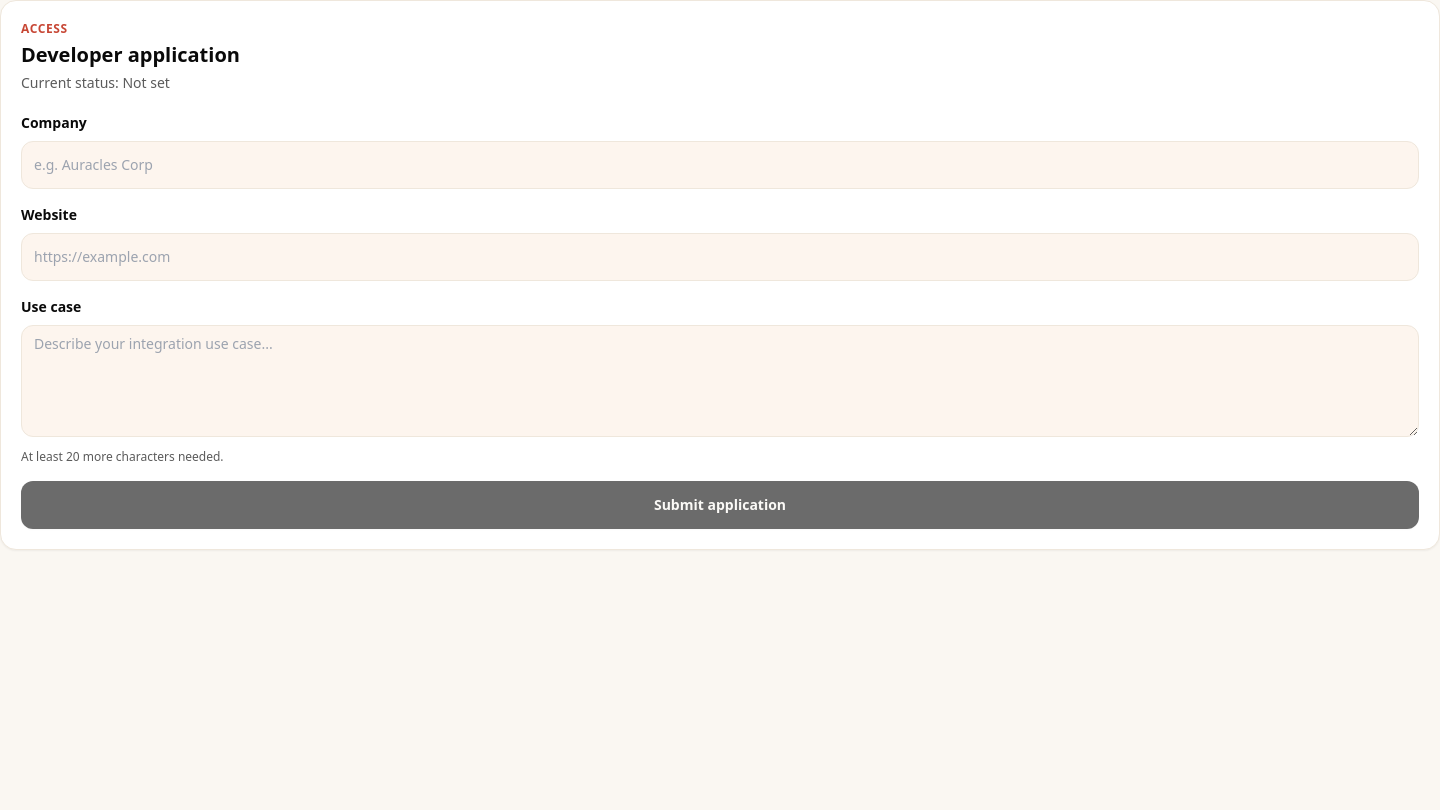
ApplicationPanel › disables the apply submit until required fields are valid
Expected: the button "Submit application" is disabled, [21,481,1419,529]
Type "Partner Systems Inc." into the field labelled "Company" at (720, 165), box [21,141,1419,189]
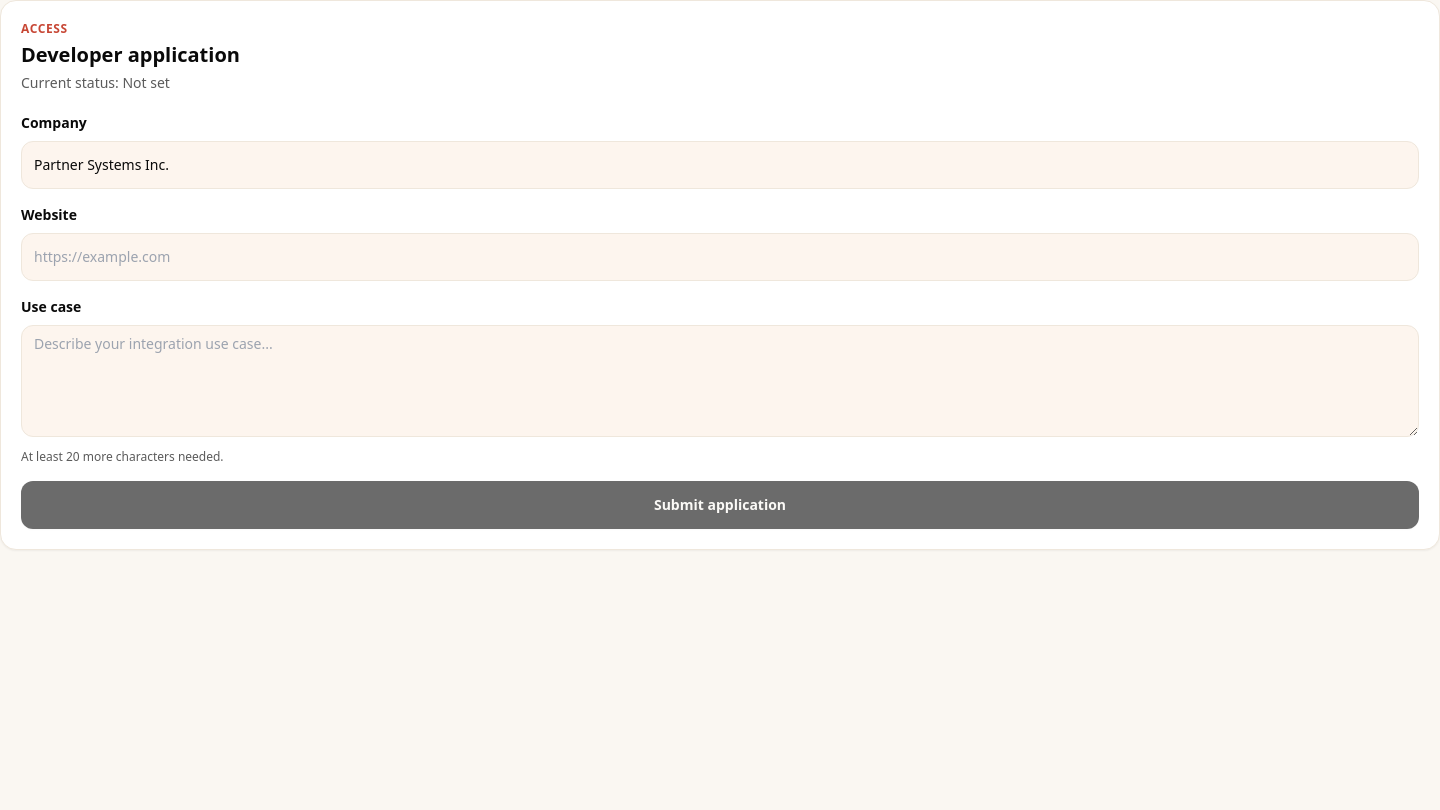
Expected: the button "Submit application" is disabled, [21,481,1419,529]
Type "Embed Framework discovery in a CRM." into the text box labelled "Use case" at (720, 381), box [21,325,1419,437]
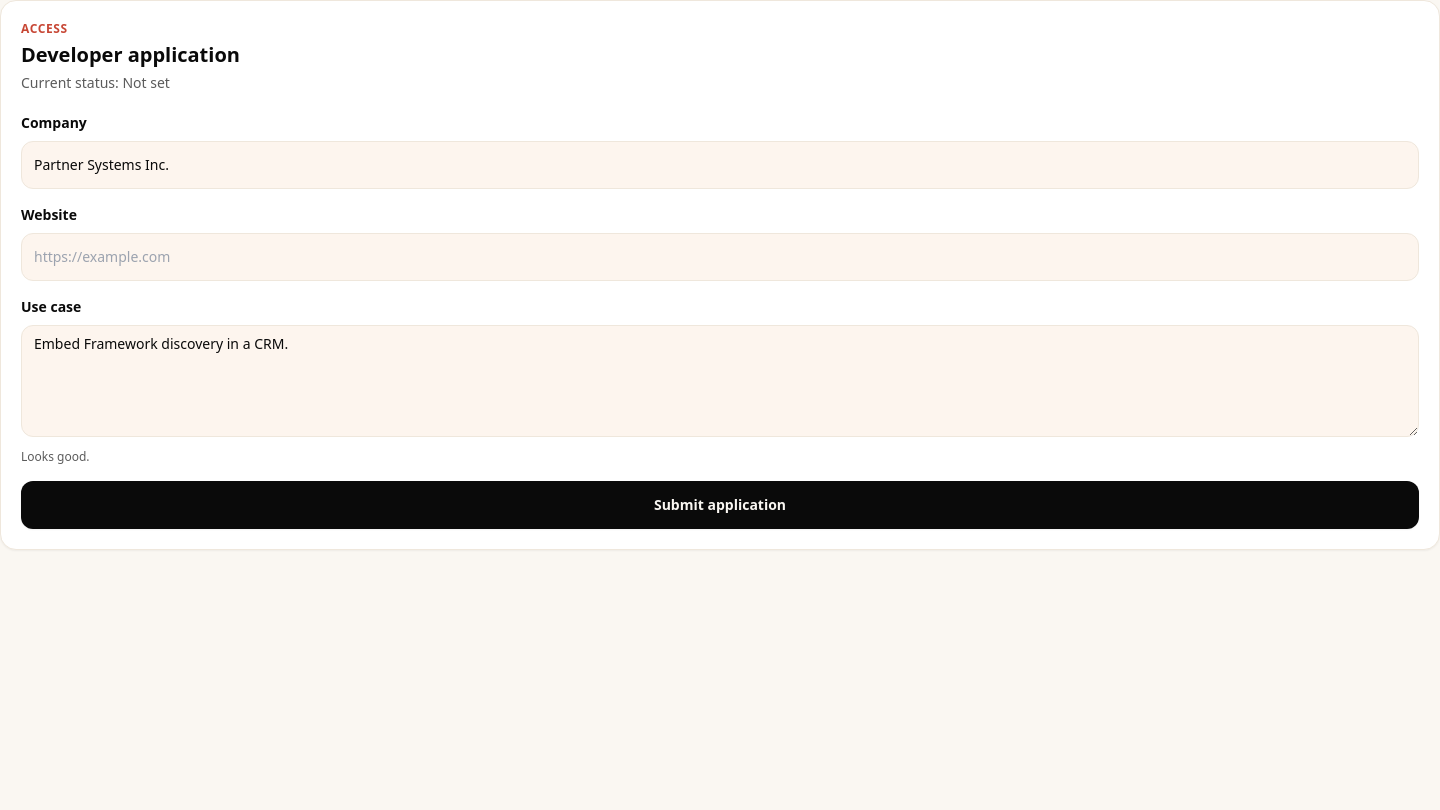
Expected: the button "Submit application" is enabled, [21,481,1419,529]
